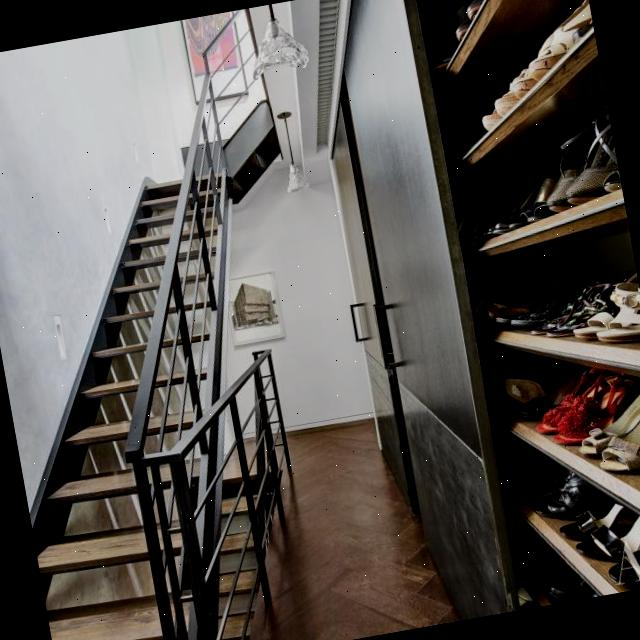stairs: (0, 158, 315, 640)
